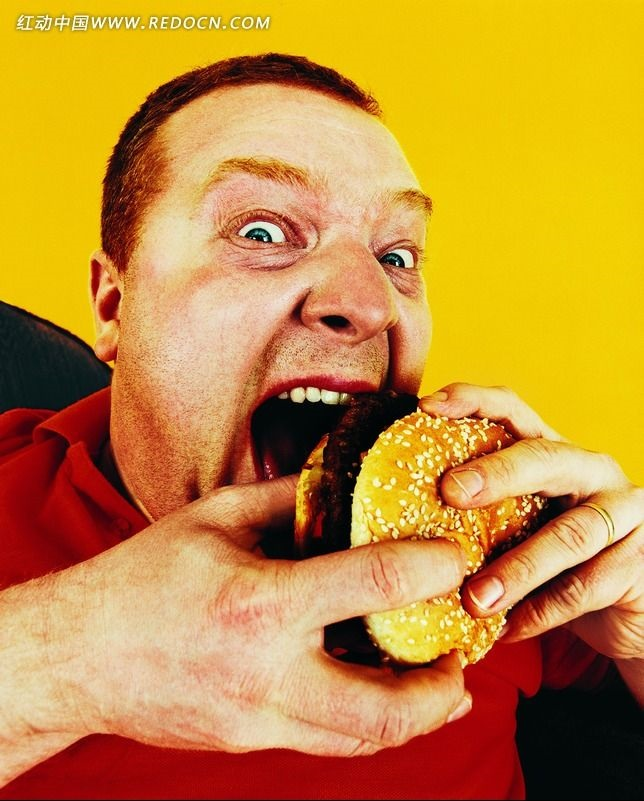face: (135, 91, 432, 588)
